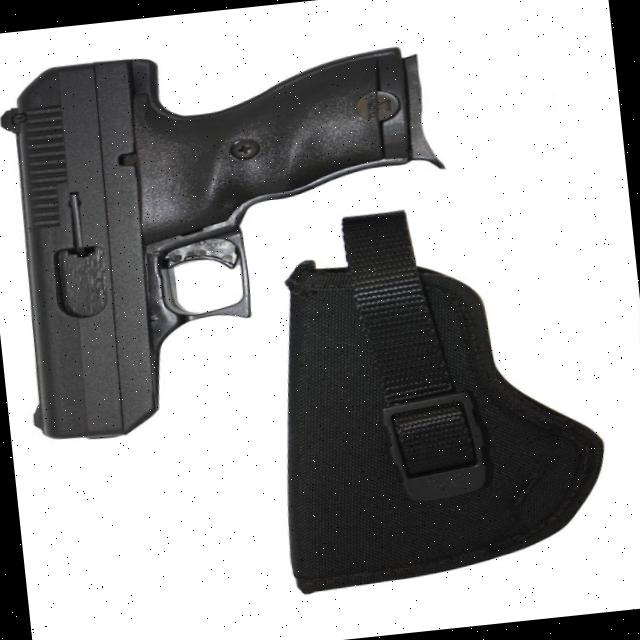Handgun: (0, 32, 465, 445)
